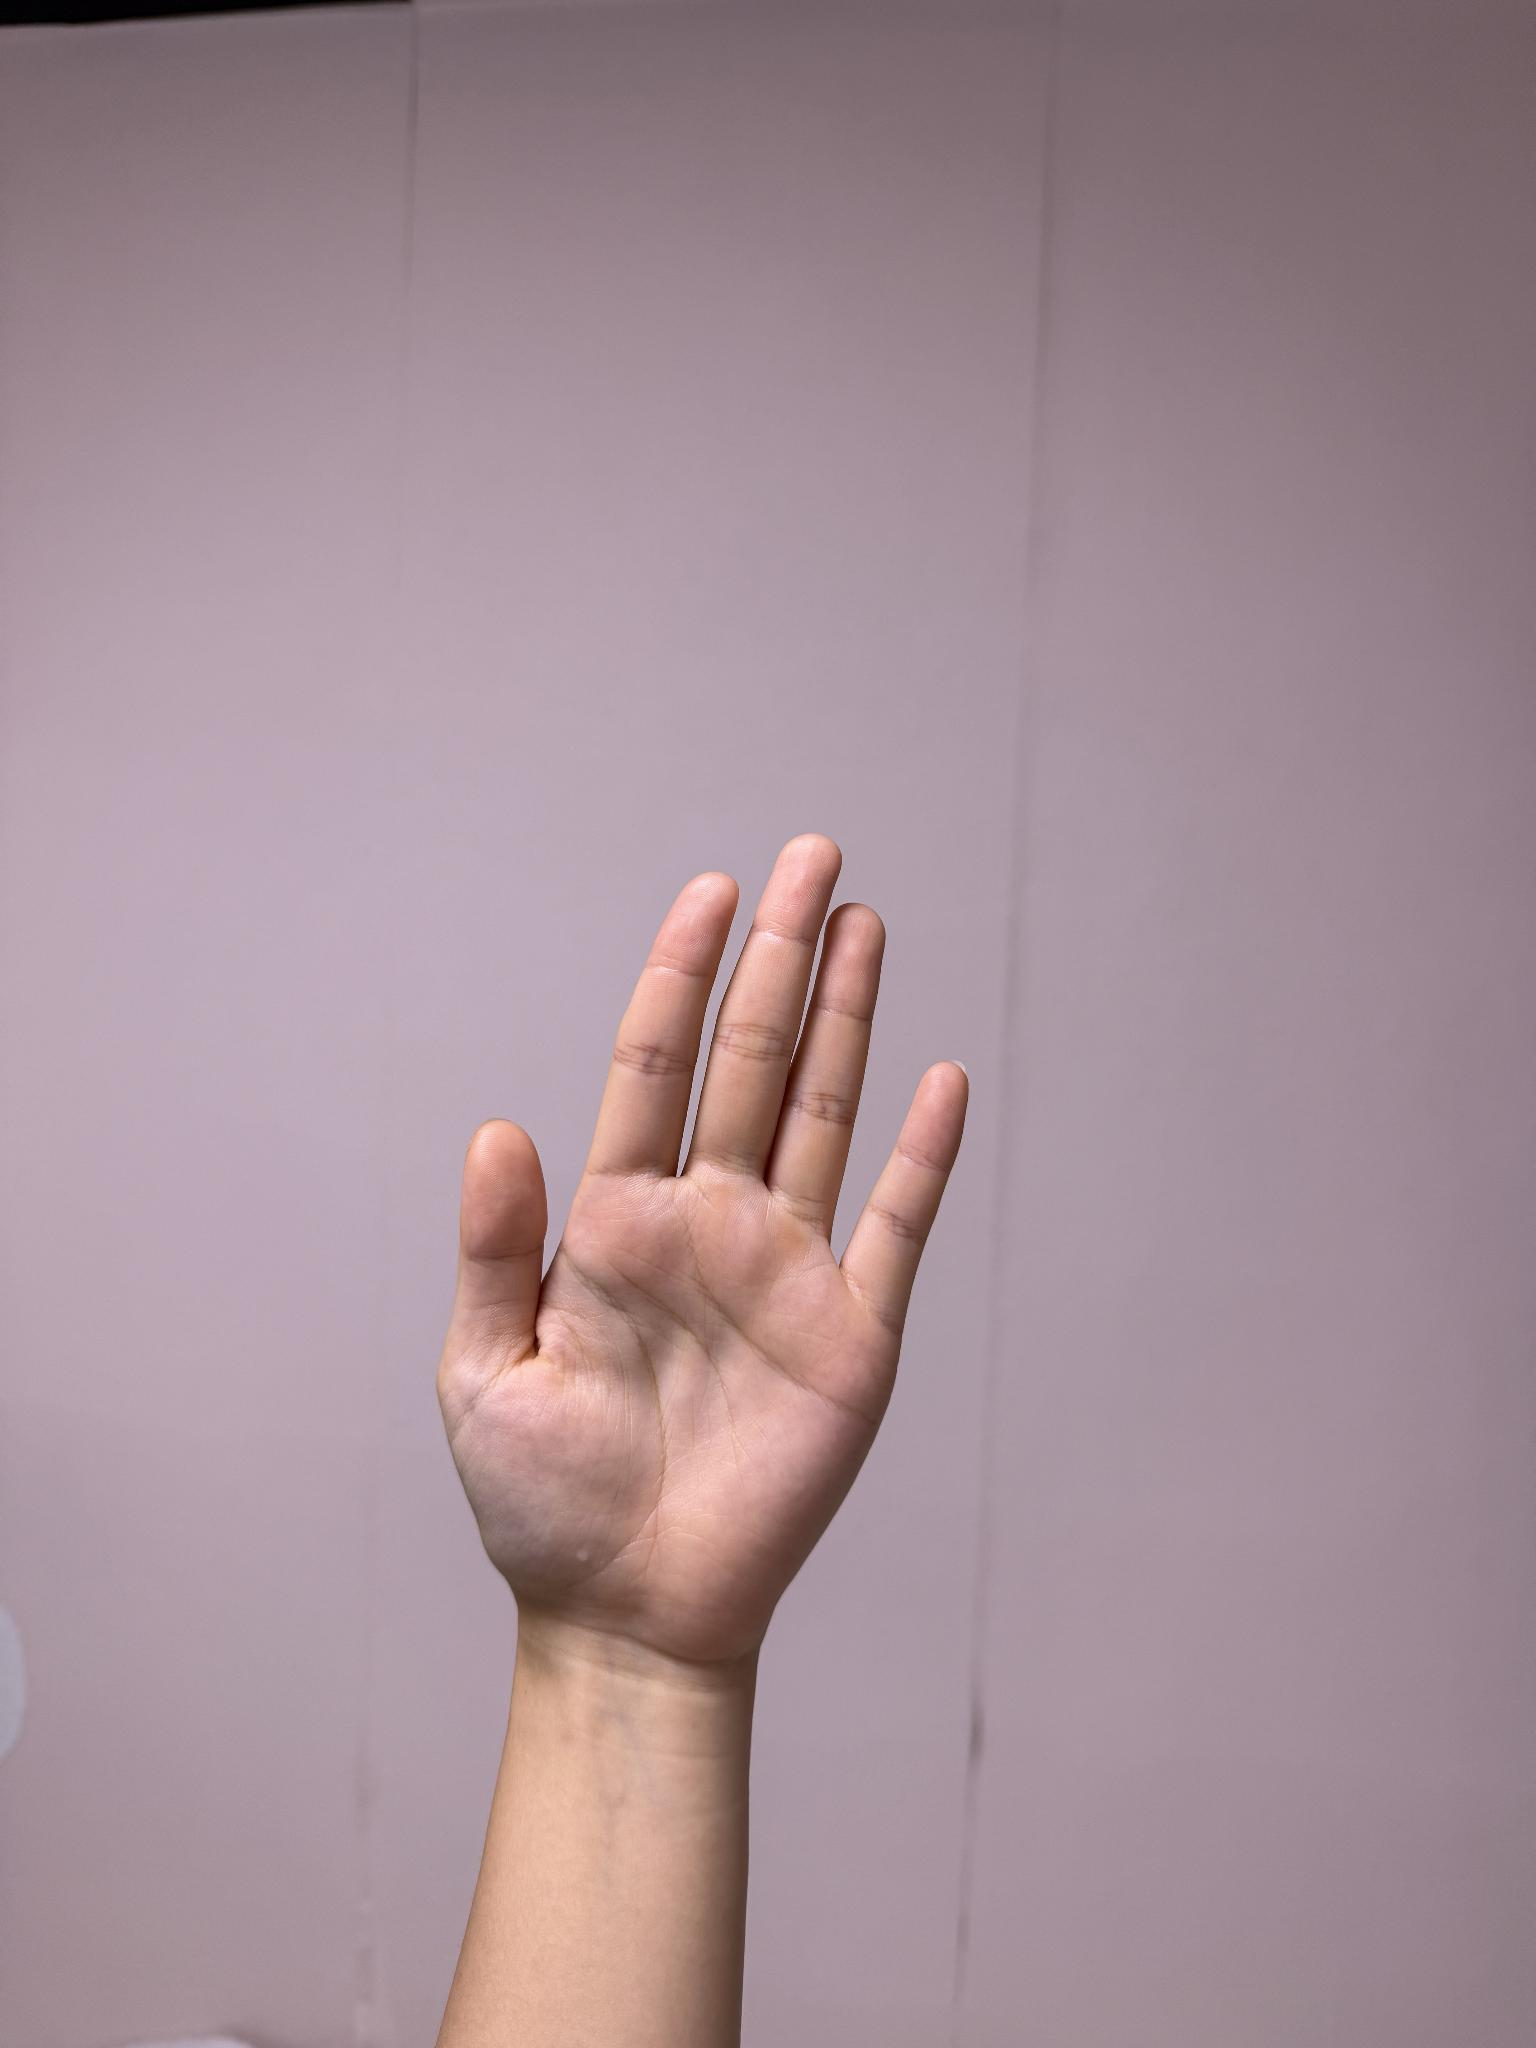open: (440, 808, 983, 1761)
